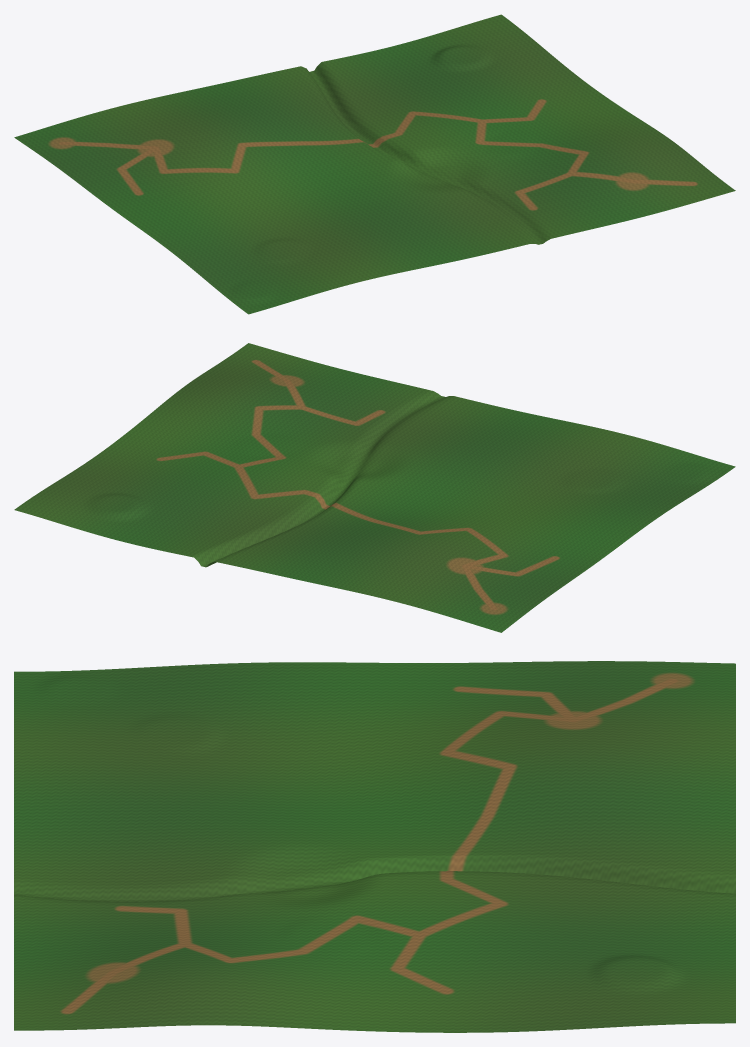
File: beech_terrain.glb
The picture shows the model from 3 angles, top to bottom: view 1: azimuth 30°, elevation 25°; view 2: azimuth 150°, elevation 25°; view 3: azimuth 270°, elevation 25°; orthographic projection. The views are drawn at different scales.
Visible parts, largest first — view 1: beech_terrain.004; view 2: beech_terrain.004; view 3: beech_terrain.004.
Boxes of the visible parts, x1,y1,x2,y2 form: beech_terrain.004: (14,14,735,314); beech_terrain.004: (14,343,735,632); beech_terrain.004: (14,661,735,1032).
Size of the model in its own units: 960 by 32.17 by 800.
1 material, 1 textured.
